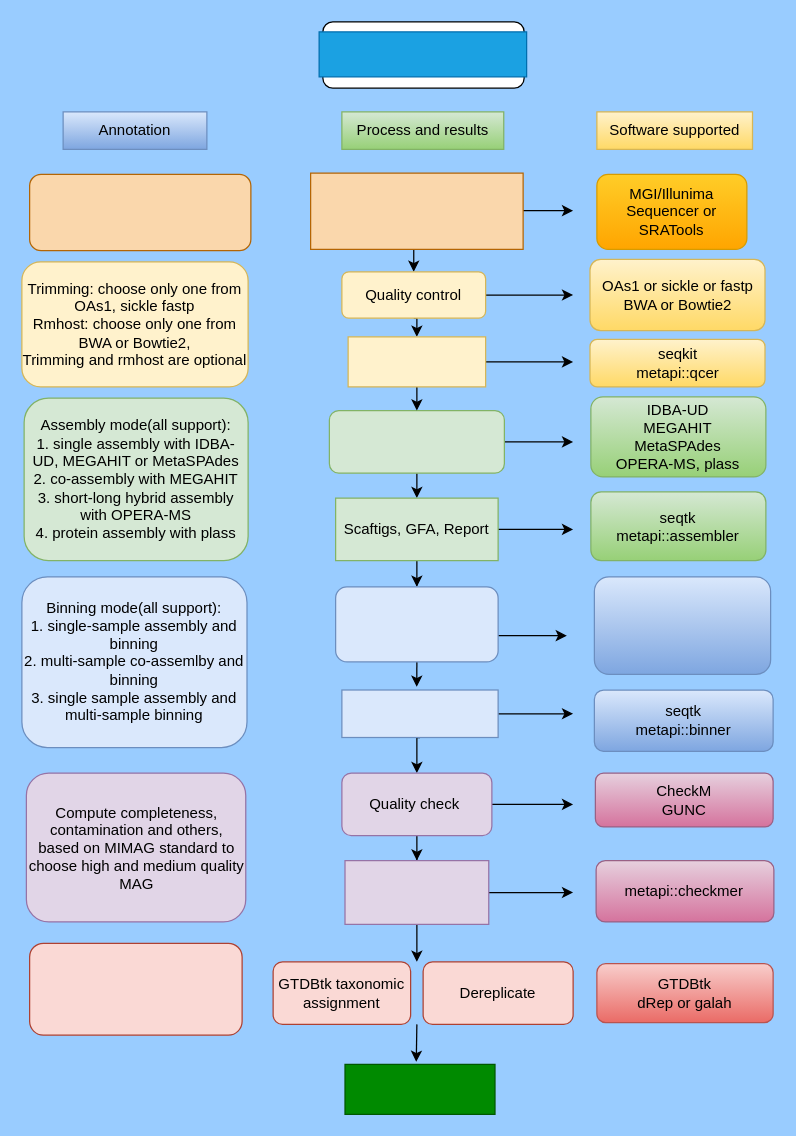
Some shapes in this 796 by 1136 pixel diagram are drawn without their labels. Here are the shapes that lost their labels. From the top down, the centre of each, then its label:
pixel 422 54: MAG workflow
pixel 139 212: Reads layout: PE or SE Reads format: FASTQ or SRA
pixel 416 210: Metagenomics shut-gut reads
pixel 416 361: QC-reads and QC-report
pixel 416 441: Metagenome assembly
pixel 416 624: Binning
pixel 682 625: MetaBAT2, MaxBin2, CONCOCT GraphBin, DASTools VAMB
pixel 419 713: MAGs, N50
pixel 416 891: High and medium quality MAGs
pixel 135 988: Choose representative MAG on species or strain level
pixel 419 1088: MAGs catalogue
